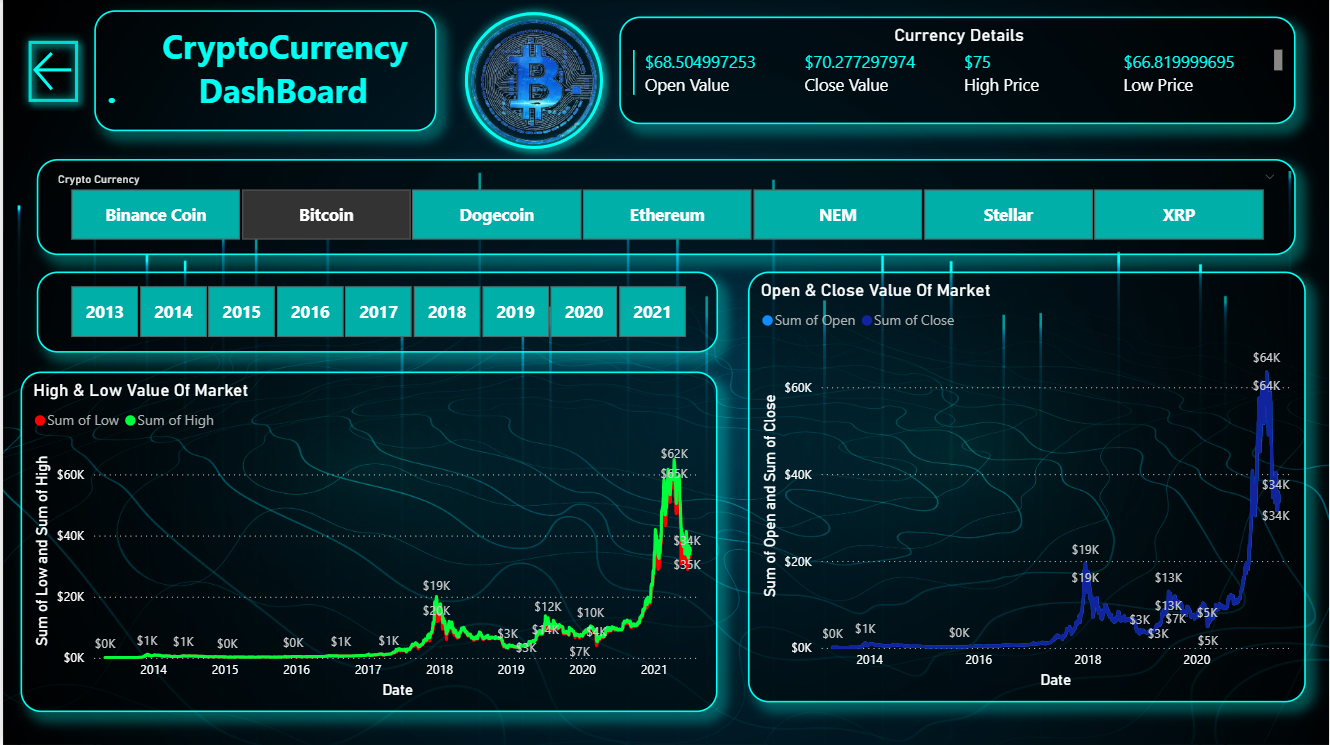

The dashboard page shown, as its layout file describes it:
{"tool":"powerbi","page":{"name":"Market details","canvas":[1280,720],"ordinal":2},"visuals":[{"type":"slicer","fields":{"Values":["data.Name"]},"box":[32.3,153.9,1215.2,93.1],"z":0},{"type":"slicer","fields":{"Values":["data.Year"]},"box":[32.3,263.2,657.9,78.2],"z":1000},{"type":"lineChart","title":"High & Low Value Of Market","fields":{"Category":["data.Date"],"Y":["Sum(data.Low)","Sum(data.High)"]},"box":[17.4,360,672.8,328.9],"z":2000},{"type":"actionButton","box":[16.1,31,65.8,77],"z":3000},{"type":"textbox","box":[88.1,10.9,330.6,117],"z":4000},{"type":"image","box":[432,0,161.4,160.1],"z":5000},{"type":"shape","box":[436.9,3.7,151.4,150.2],"z":6000},{"type":"lineChart","title":"Open & Close Value Of Market","fields":{"Category":["data.Date"],"Y":["Sum(data.Open)","Sum(data.Close)"]},"box":[718.7,263.2,538.7,415.8],"z":7000},{"type":"multiRowCard","title":"Currency Details","fields":{"Values":["data.Open","data.Close","data.High","data.Low"]},"box":[594.6,17.4,652.9,104.3],"z":8000}]}

Visuals, with their boxes in screenshot pixels (x1, y1, x2, y2), scaled from the page's 1280x720 canvas onto the 1330x745 screenshot:
slicer - data.Name: bbox(34, 159, 1296, 256)
slicer - data.Year: bbox(34, 272, 717, 353)
"High & Low Value Of Market" lineChart: bbox(18, 373, 717, 713)
actionButton: bbox(17, 32, 85, 112)
textbox: bbox(92, 11, 435, 132)
image: bbox(449, 0, 617, 166)
shape: bbox(454, 4, 611, 159)
"Open & Close Value Of Market" lineChart: bbox(747, 272, 1307, 703)
"Currency Details" multiRowCard: bbox(618, 18, 1296, 126)
